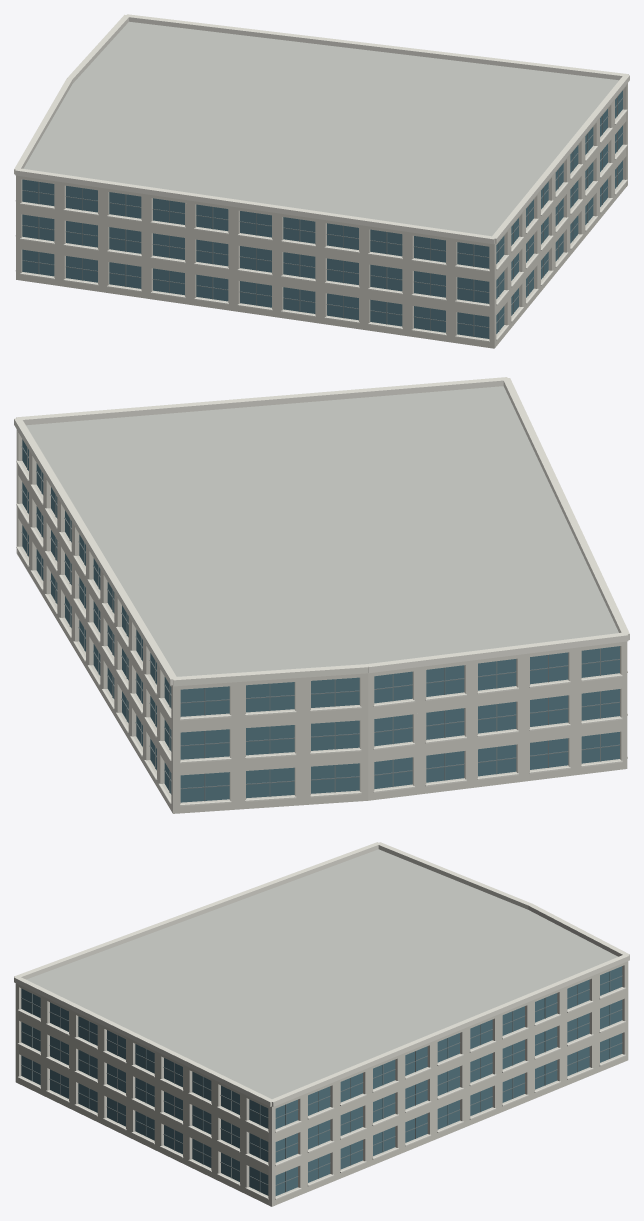
The picture shows the model from 3 angles, top to bottom: view 1: azimuth 30°, elevation 25°; view 2: azimuth 150°, elevation 25°; view 3: azimuth 270°, elevation 25°; orthographic projection. The views are drawn at different scales.
Parts seen in each view (by area): view 1: roof, wall, glass, trim, metal; view 2: roof, wall, glass, trim, metal; view 3: roof, wall, glass, trim, metal.
Part boxes in pixels (<box>): roof: <box>23,21,618,236</box>; wall: <box>16,83,627,348</box>; glass: <box>22,90,622,338</box>; trim: <box>14,14,629,342</box>; metal: <box>22,96,623,336</box>; roof: <box>26,386,618,676</box>; wall: <box>16,429,627,813</box>; glass: <box>22,439,619,802</box>; trim: <box>14,377,629,806</box>; metal: <box>21,446,620,801</box>; roof: <box>26,849,617,1098</box>; wall: <box>15,961,628,1206</box>; glass: <box>21,966,622,1195</box>; trim: <box>14,842,629,1199</box>; metal: <box>21,971,622,1192</box>.
Size of the model in its own units: 51.66 by 9.74 by 51.67.
